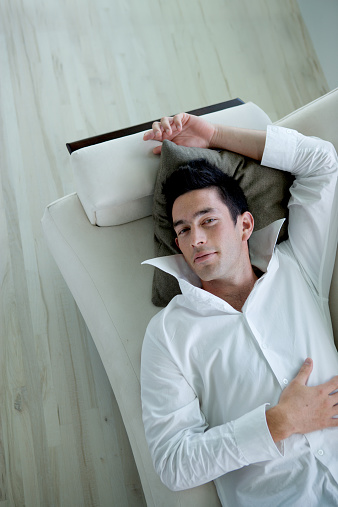deitado: (136, 119, 338, 507)
